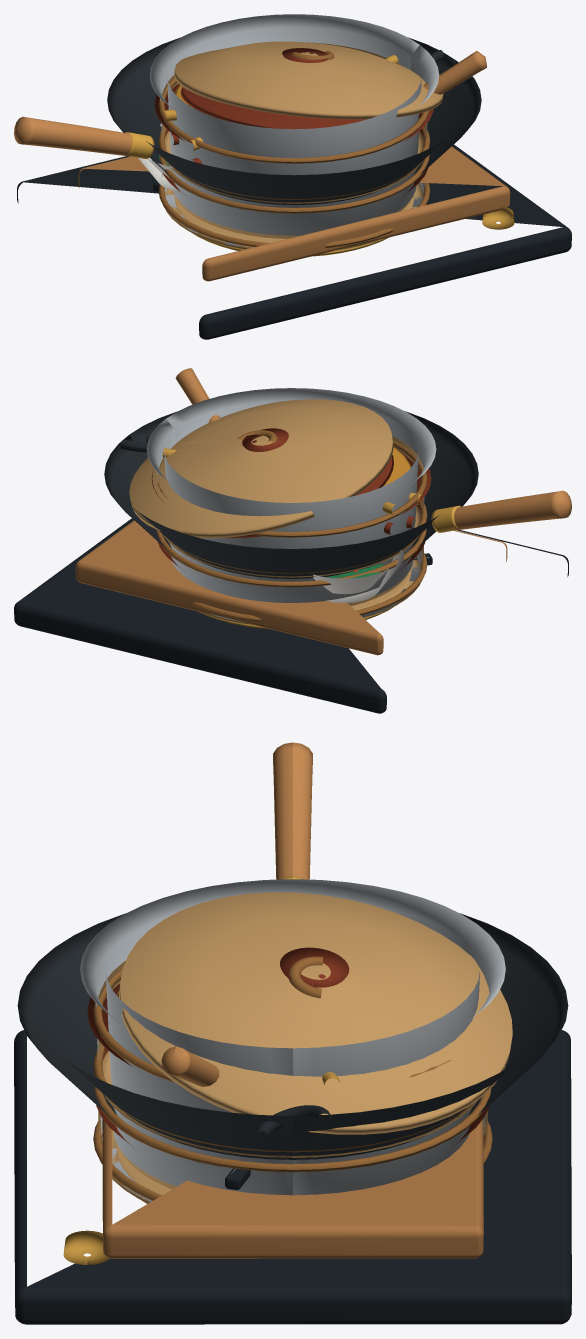
The model's file is culinary-cookware-stage.glb.
The picture shows the model from 3 angles, top to bottom: view 1: azimuth 30°, elevation 25°; view 2: azimuth 150°, elevation 25°; view 3: azimuth 270°, elevation 25°; orthographic projection. The views are drawn at different scales.
Parts seen in each view (by area): view 1: Stockpot_Vessel, Wok_Vessel, Burner_Base, Steamer_Lid, Prep_Block, Steamer_Tiers, Claypot_Lid, Wok_Spatula, Claypot_Body; view 2: Steamer_Lid, Burner_Base, Stockpot_Vessel, Wok_Vessel, Prep_Block, Steamer_Tiers, Claypot_Lid, Wok_Spatula, Claypot_Body, Stockpot_Broth; view 3: Steamer_Lid, Burner_Base, Stockpot_Vessel, Wok_Vessel, Prep_Block, Steamer_Tiers, Wok_Spatula, Claypot_Lid, Claypot_Body.
Part boxes in pixels (x1,y1,x2,y2): Stockpot_Vessel: (149, 14, 439, 246); Wok_Vessel: (14, 37, 481, 209); Burner_Base: (17, 144, 571, 339); Steamer_Lid: (174, 41, 443, 119); Prep_Block: (78, 124, 510, 281); Steamer_Tiers: (158, 42, 430, 251); Claypot_Lid: (180, 48, 422, 129); Wok_Spatula: (423, 51, 486, 94); Claypot_Body: (154, 84, 433, 196); Steamer_Lid: (129, 399, 393, 538); Burner_Base: (14, 518, 568, 713); Stockpot_Vessel: (146, 388, 436, 622); Wok_Vessel: (104, 411, 571, 583); Prep_Block: (75, 520, 507, 655); Steamer_Tiers: (156, 436, 427, 625); Claypot_Lid: (225, 428, 393, 537); Wok_Spatula: (175, 368, 220, 422); Claypot_Body: (151, 454, 431, 569); Stockpot_Broth: (383, 447, 410, 486); Steamer_Lid: (118, 892, 512, 1134); Burner_Base: (14, 1030, 571, 1324); Stockpot_Vessel: (80, 879, 505, 1201); Wok_Vessel: (17, 742, 568, 1166); Prep_Block: (102, 1119, 483, 1258); Steamer_Tiers: (93, 960, 492, 1203); Wok_Spatula: (161, 1046, 219, 1086); Claypot_Lid: (280, 947, 349, 987); Claypot_Body: (87, 984, 489, 1147).
Bounding box in the file's own units: 2.14 × 0.7827 × 1.52.
